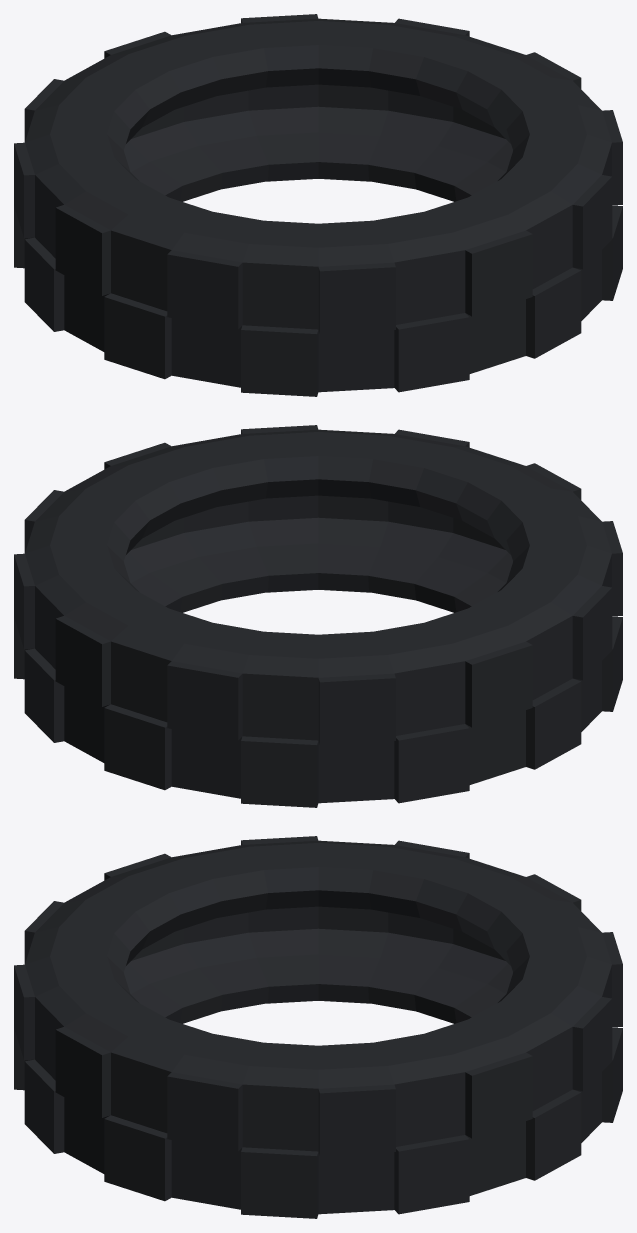
Rendered from Wheel_1.fbx.
3 views of the same model, one above another, from view 1: azimuth 30°, elevation 25°; view 2: azimuth 150°, elevation 25°; view 3: azimuth 270°, elevation 25° (orthographic).
Visible parts, largest first — view 1: Wheel_1; view 2: Wheel_1; view 3: Wheel_1.
Boxes of the visible parts, <box> form: Wheel_1: <box>14,14,622,396</box>; Wheel_1: <box>14,425,622,807</box>; Wheel_1: <box>14,836,622,1218</box>.
Bounding box in the file's own units: 233 × 59.94 × 233.
